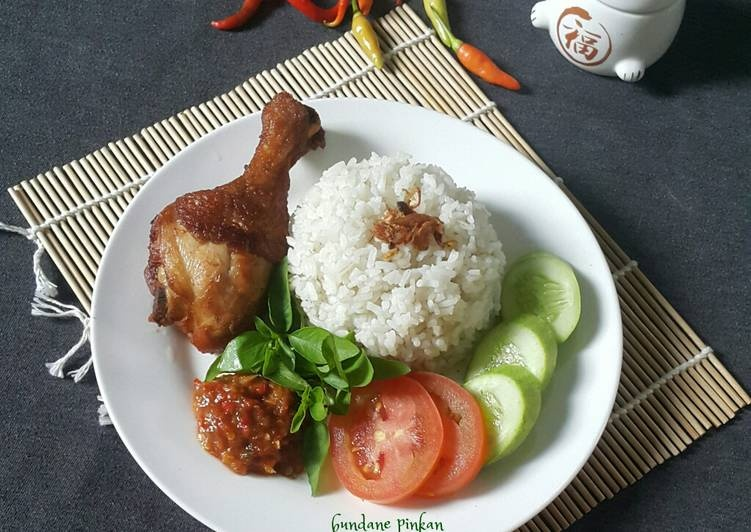ayam_goreng: (141, 88, 320, 347)
